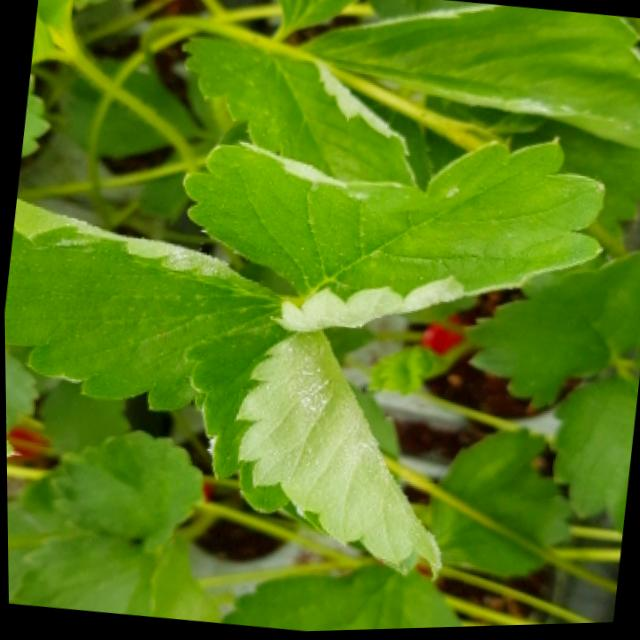Powdery Mildew Leaf: (182, 140, 604, 334), (182, 327, 439, 584), (3, 197, 300, 411), (295, 6, 640, 153), (178, 35, 421, 194)
